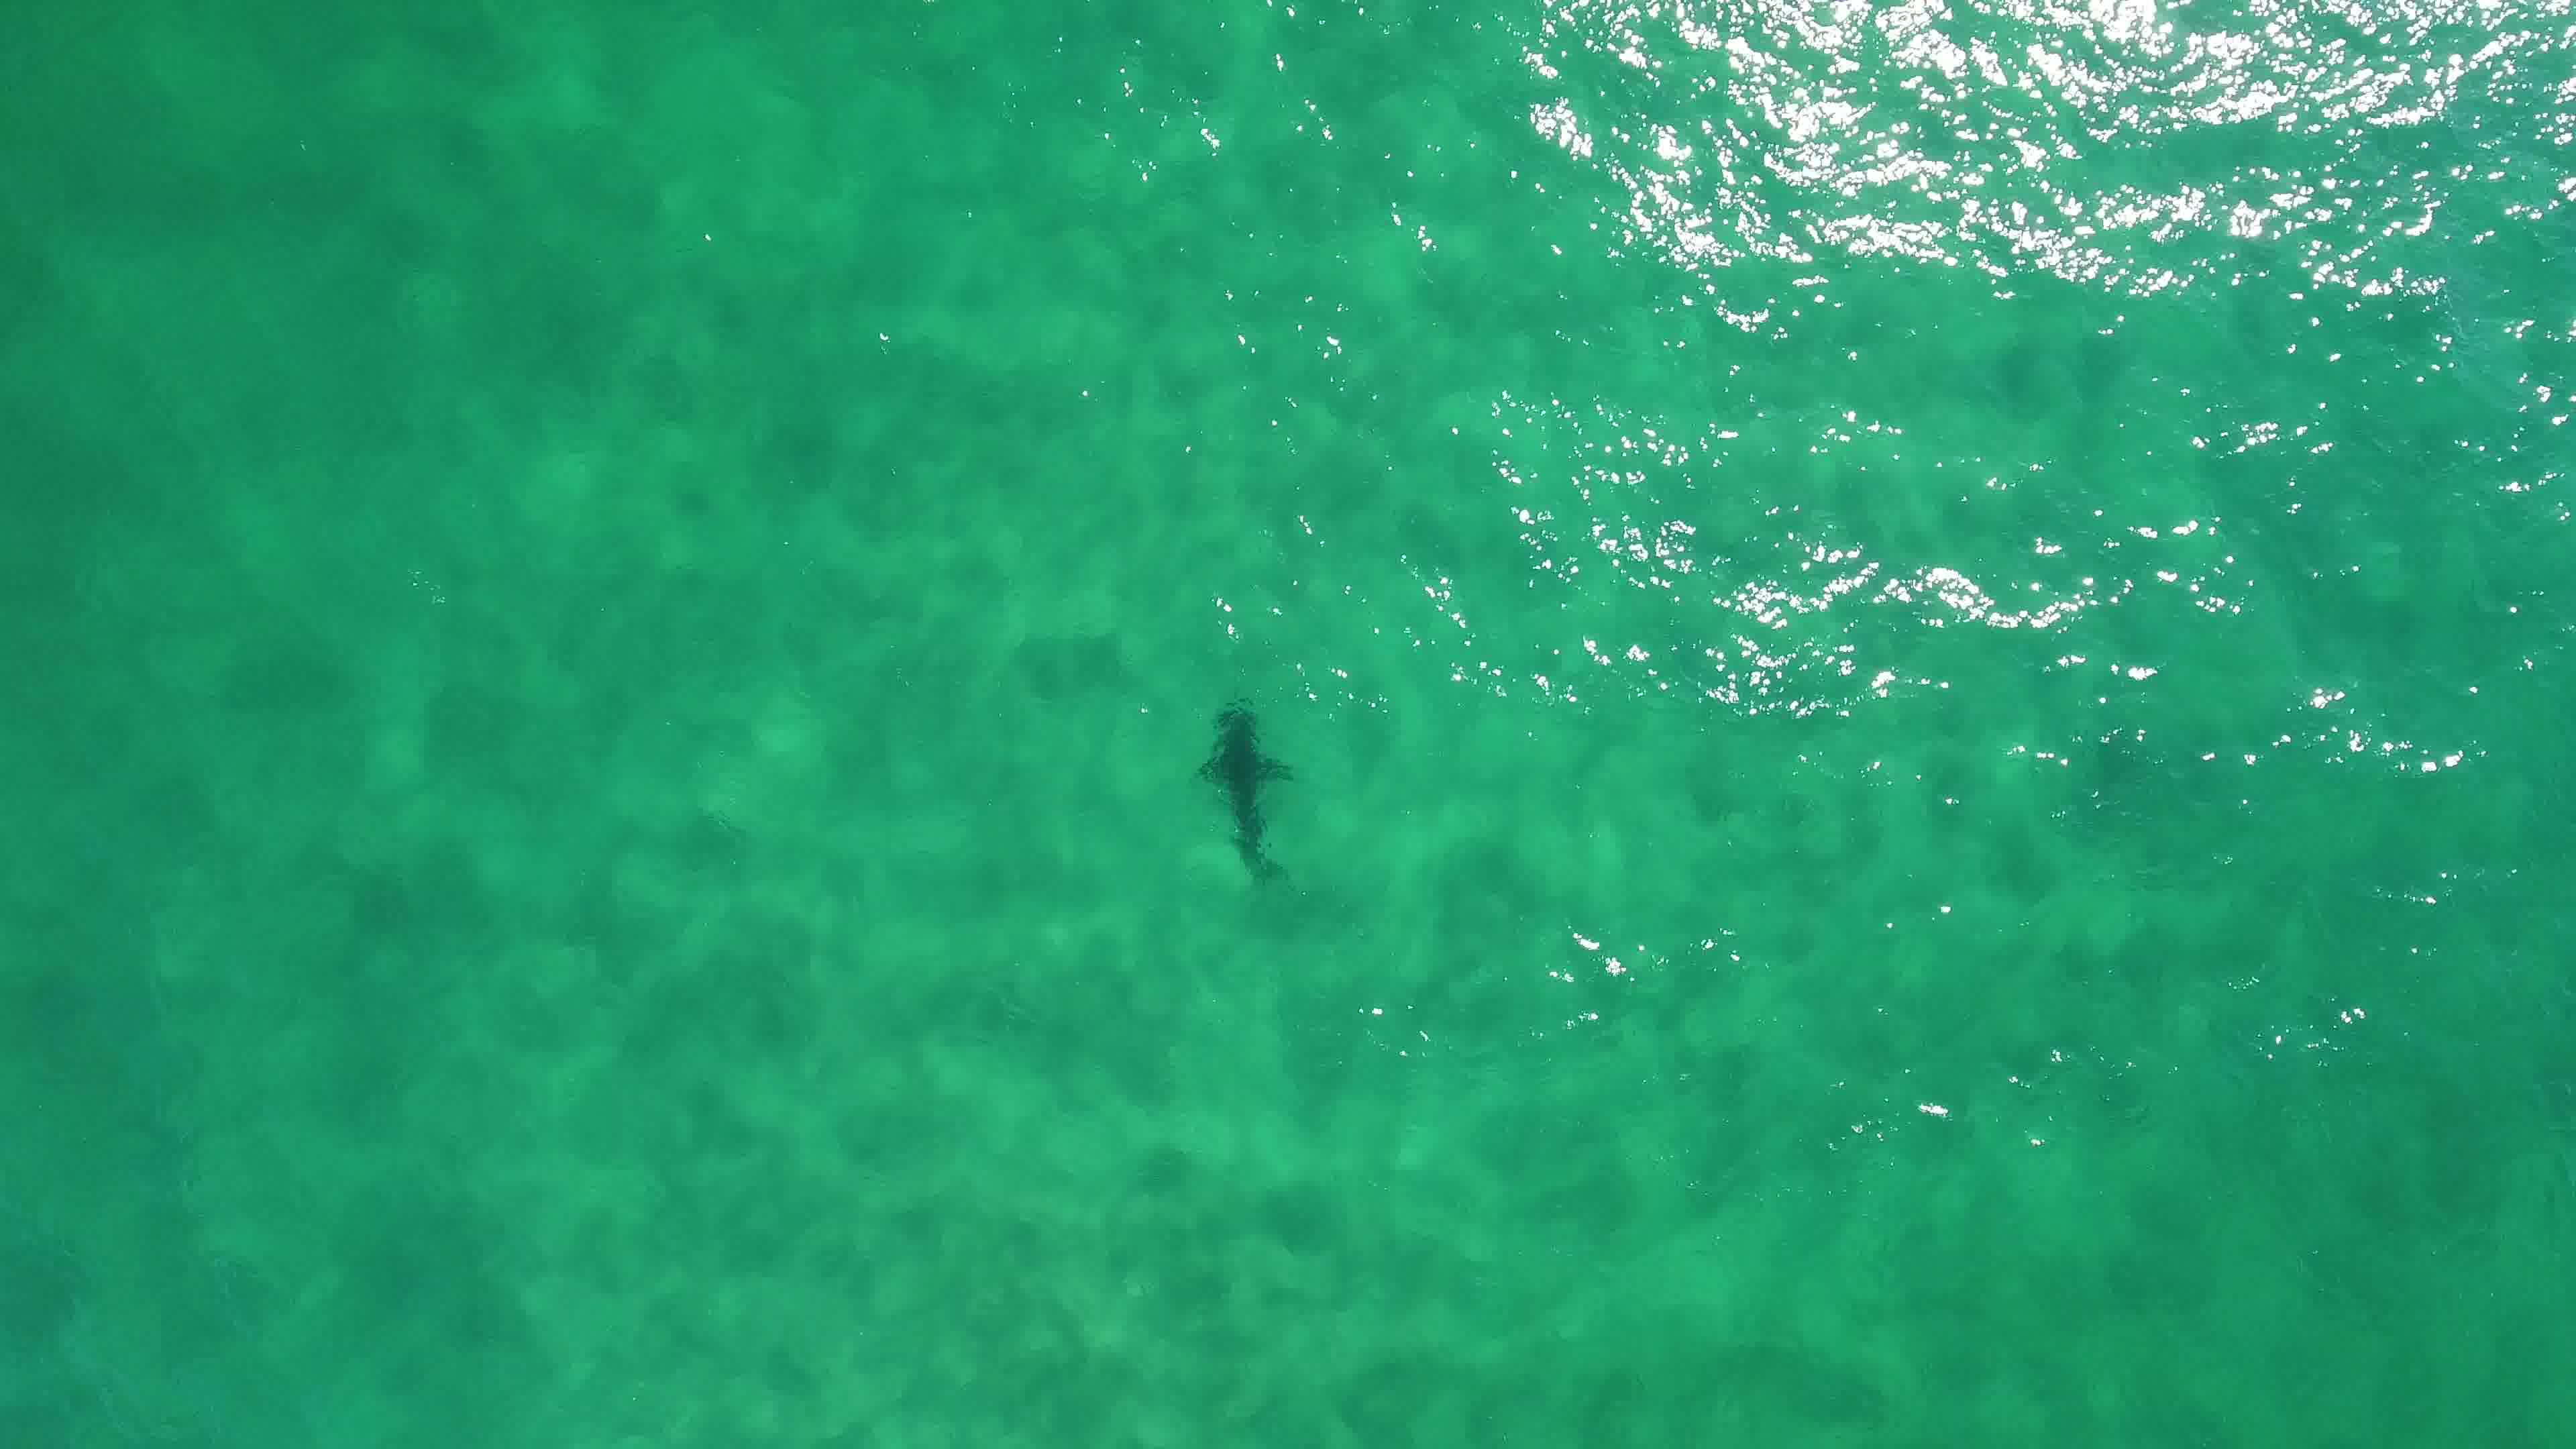shark: (1184, 695, 1297, 878)
